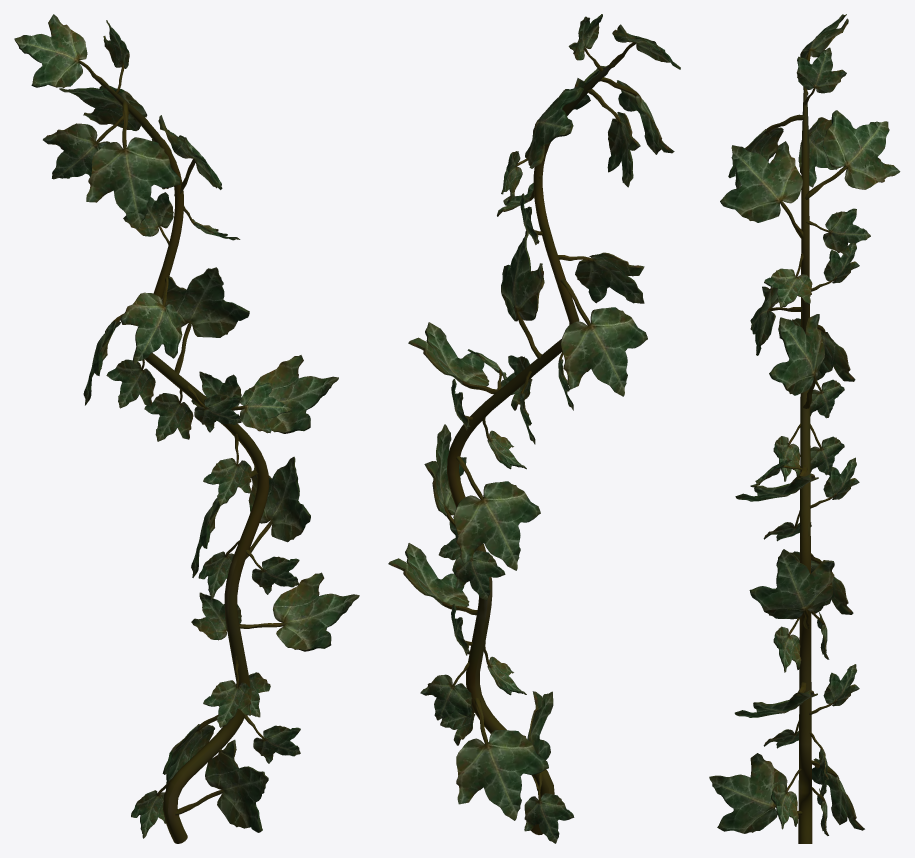
File: ivy_vine.glb
3 renders of one model, left to right at view 1: azimuth 30°, elevation 25°; view 2: azimuth 150°, elevation 25°; view 3: azimuth 270°, elevation 25°, orthographic. The views are drawn at different scales.
Parts seen in each view (by area): view 1: defaultMaterial; view 2: defaultMaterial; view 3: defaultMaterial.
Part boxes in pixels (x1=…): defaultMaterial: x1=14, y1=14, x2=359, y2=843; defaultMaterial: x1=388, y1=14, x2=680, y2=843; defaultMaterial: x1=709, y1=14, x2=900, y2=843.
Bounding box in the file's own units: 7.94 × 21.33 × 4.74.
1 material, 1 textured.
